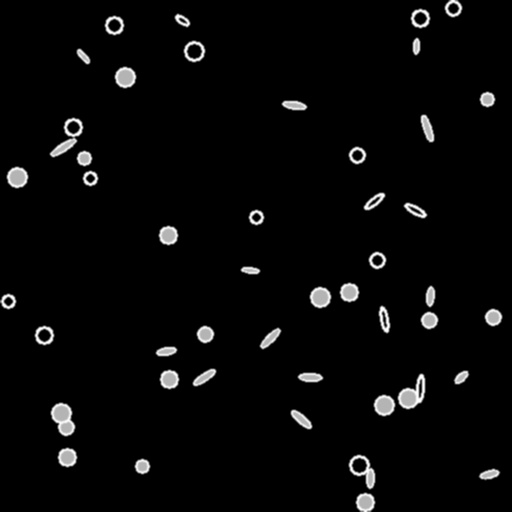pseudomonas: (49, 137, 77, 157), (289, 408, 313, 430), (259, 327, 281, 349), (192, 367, 216, 387), (363, 191, 385, 211), (420, 114, 434, 142), (404, 202, 426, 218), (379, 306, 389, 332), (416, 374, 424, 402), (453, 370, 469, 384), (174, 13, 190, 27), (76, 48, 90, 64), (283, 100, 305, 110), (479, 469, 499, 479), (156, 346, 176, 356), (426, 287, 434, 305), (298, 374, 322, 380), (242, 266, 258, 274), (367, 469, 373, 487), (413, 38, 419, 54)
synechocystis: (8, 168, 26, 186), (375, 396, 393, 414), (350, 456, 368, 474), (311, 288, 329, 306), (116, 68, 134, 86), (52, 404, 70, 422), (185, 42, 203, 60), (399, 389, 417, 407), (65, 119, 81, 135), (412, 10, 428, 26), (357, 494, 373, 510), (36, 327, 52, 343), (160, 227, 176, 243), (161, 371, 177, 387), (59, 449, 75, 465), (106, 17, 122, 33), (341, 284, 357, 300), (446, 1, 460, 15), (370, 253, 384, 267), (350, 148, 364, 162), (59, 420, 73, 434), (198, 327, 212, 341), (486, 310, 500, 324), (422, 313, 436, 327), (250, 211, 262, 223), (78, 152, 90, 164), (2, 295, 14, 307), (136, 460, 148, 472), (84, 172, 96, 184), (481, 93, 493, 105)
